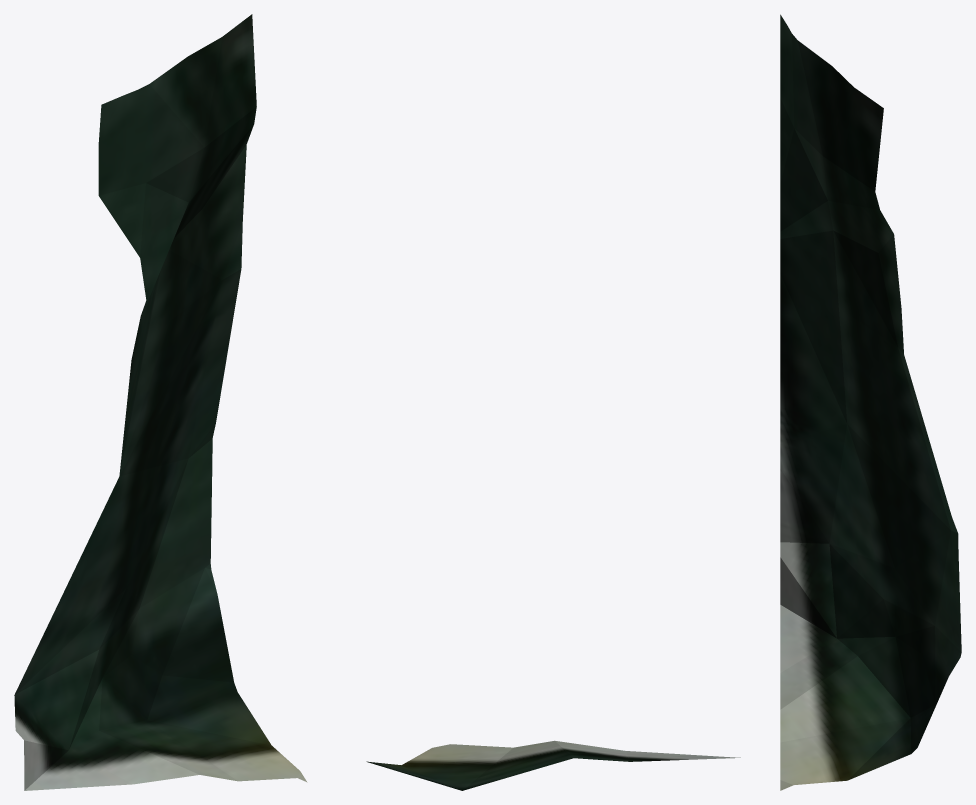
The picture shows the model from 3 angles, left to right: view 1: azimuth 30°, elevation 25°; view 2: azimuth 150°, elevation 25°; view 3: azimuth 270°, elevation 25°; orthographic projection. The views are drawn at different scales.
Bounding box in the file's own units: 0.4089 × 0.9745 × 0.2348.
1 material, 1 textured.
